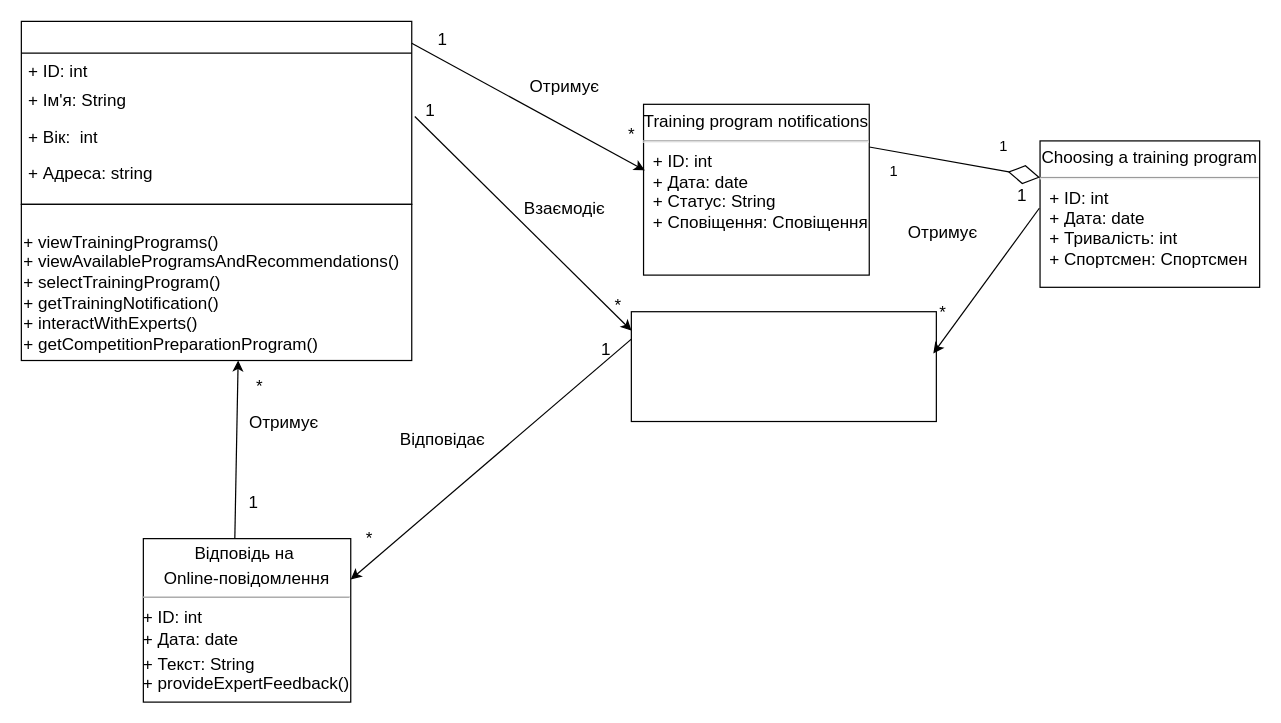
The diagram is 1281 pixels wide and 723 high, and some of its shapes have lost their labels. The box of each missing label's shape, as (x1, y1, x2, y2) in pixels:
Expert + ID: int + Ім'я: String + receiveOnlineMessageFromAthlete(): (630, 310, 936, 422)
Sportsmen: (20, 20, 412, 204)
